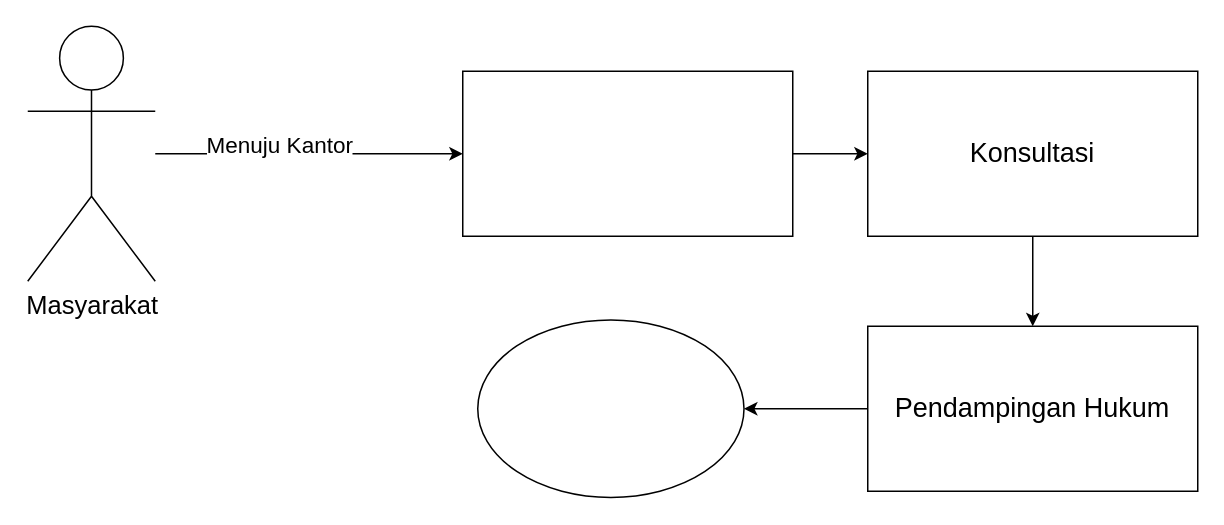
Some shapes in this 1224 by 525 pixel diagram are drawn without their labels. The centre of each missing label's shape, as x and y in pixels:
"Registrasi" belongs at pixel 627 153.
"Selesai" belongs at pixel 610 407.
